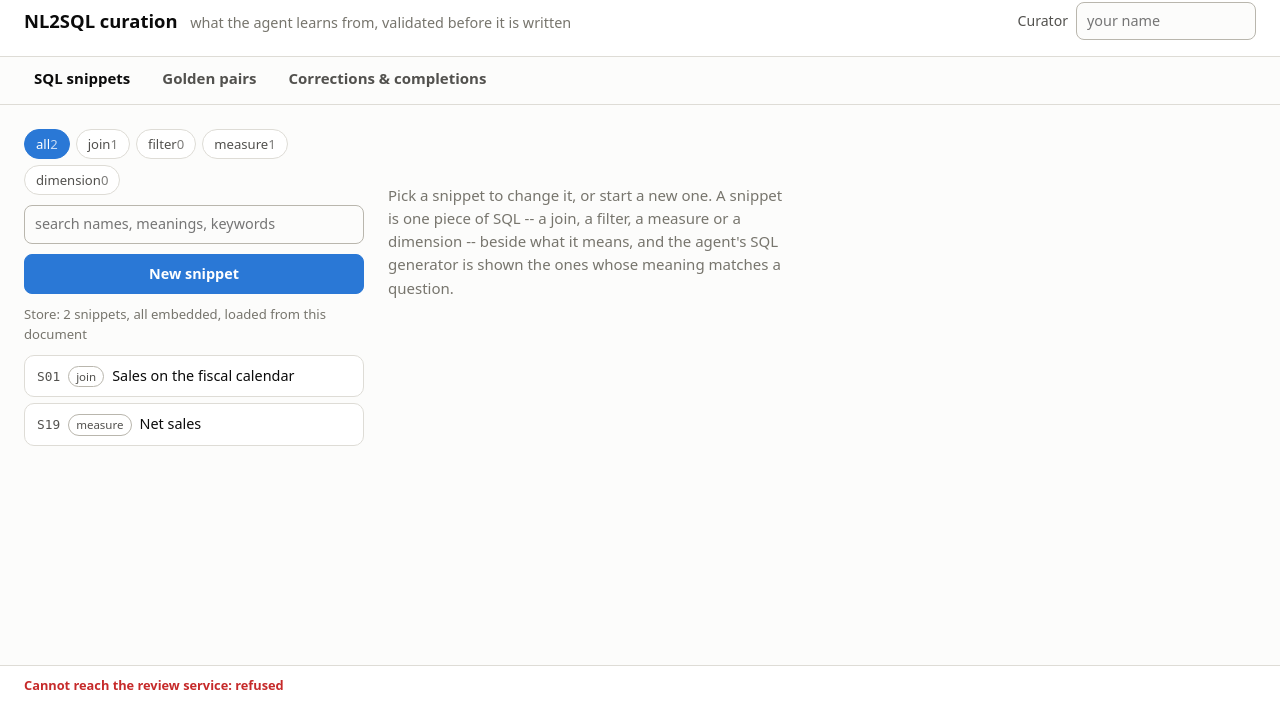
Test case: the status bar › says when the service cannot be reached, and recovers after a write
Expected: the text "Cannot reach the review service: refused" is shown, [24, 676, 284, 696]
What coordinates should you click on to do the following:
click the text "Net sales"
I would click on:
 (170, 424)
Its box is [140, 414, 201, 433].
(page scrolled)
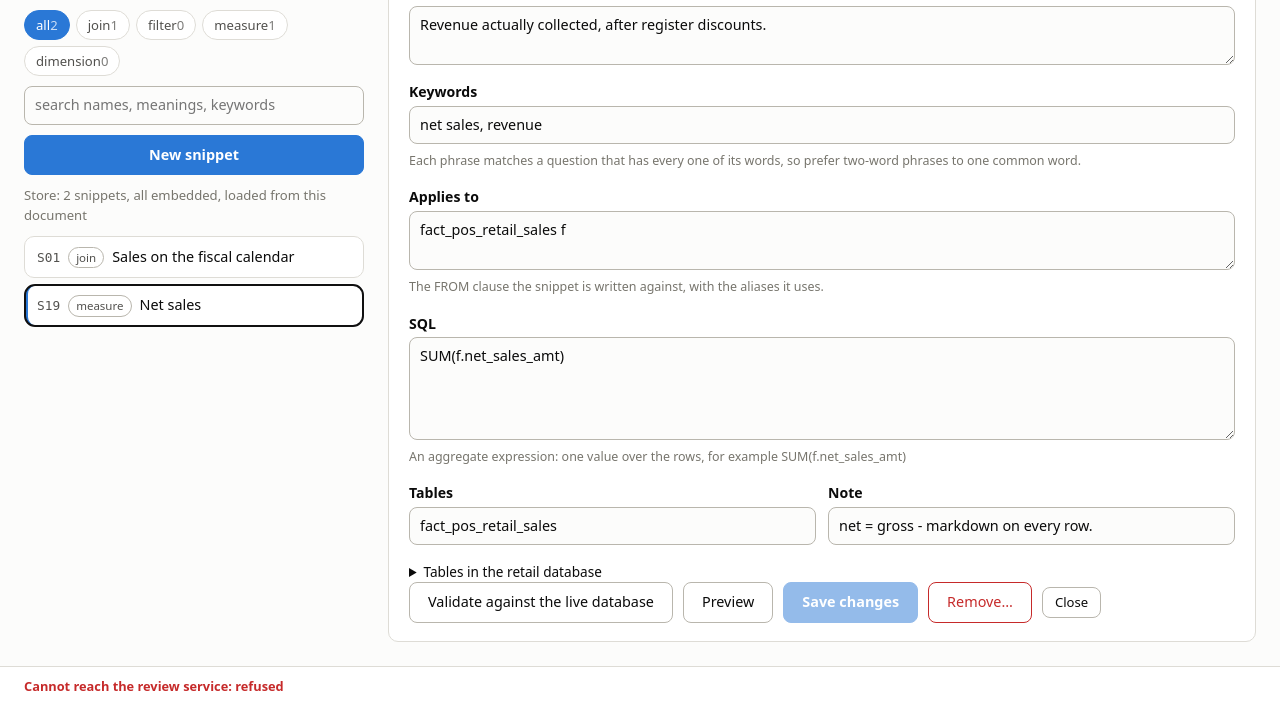
What coordinates should you click on to do the following:
click the button "Validate against the live database"
I would click on:
 (541, 602)
Its box is [409, 582, 673, 622].
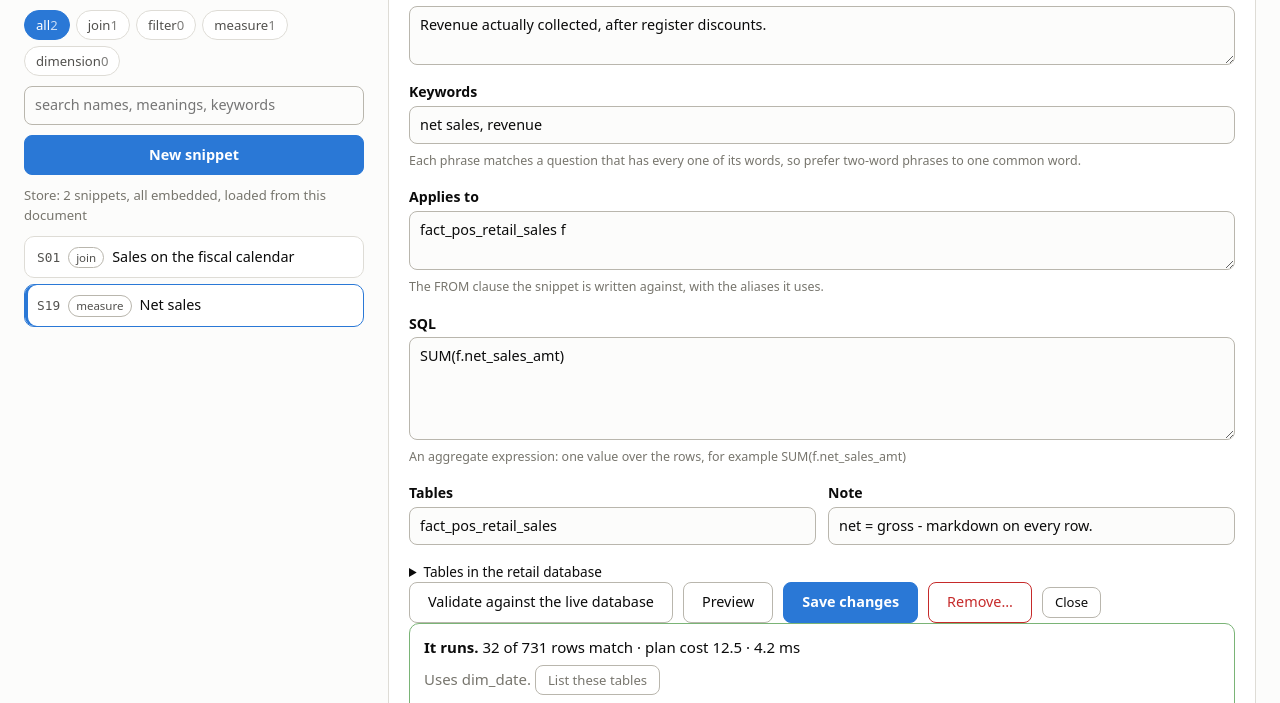
Result: the text "It runs." is shown at [424, 636, 478, 656]
What coordinates should you click on to do the following:
click the button "Save changes"
I would click on:
 (851, 602)
Its box is [783, 582, 918, 622].
(page scrolled)
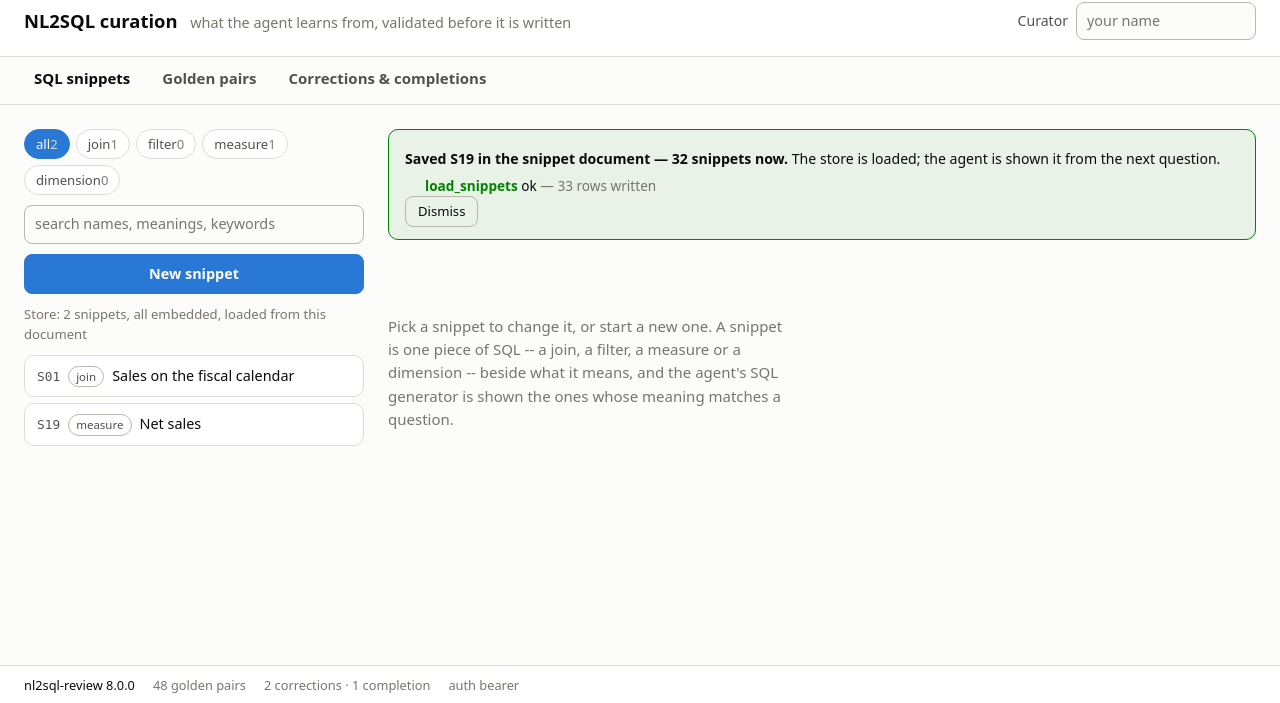
Expected: the text "Cannot reach the review service" is not shown
Result: the text "nl2sql-review 8.0.0" is shown at [24, 676, 135, 696]
